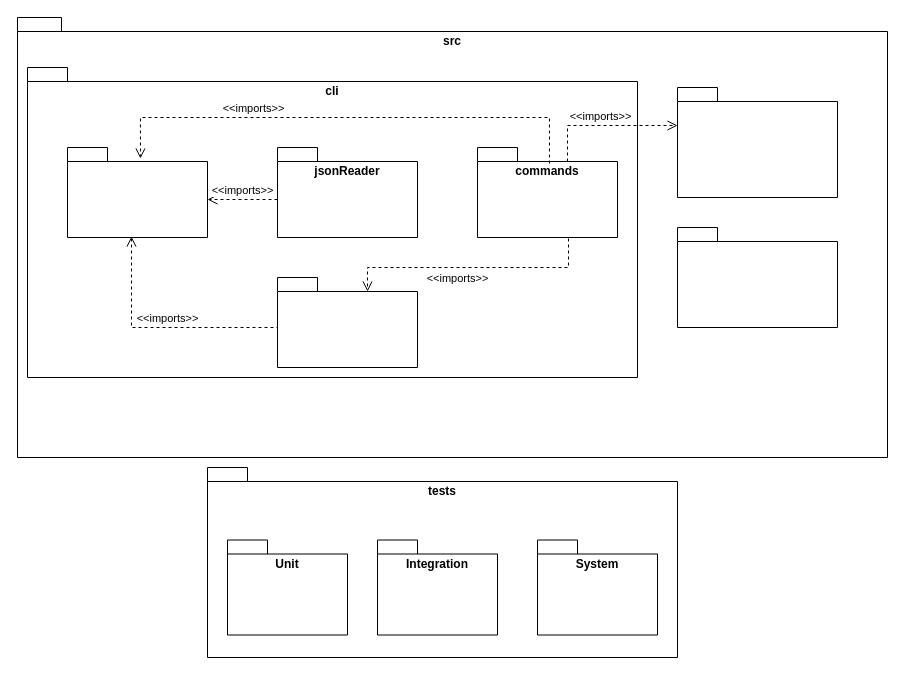
Some shapes in this 905 by 675 pixel diagram are drawn without their labels. Each missing label, with the centre of its shape:
"config" goes at [757,142].
"exceptions" goes at [137,192].
"logs" goes at [757,277].
"resources" goes at [347,322].
